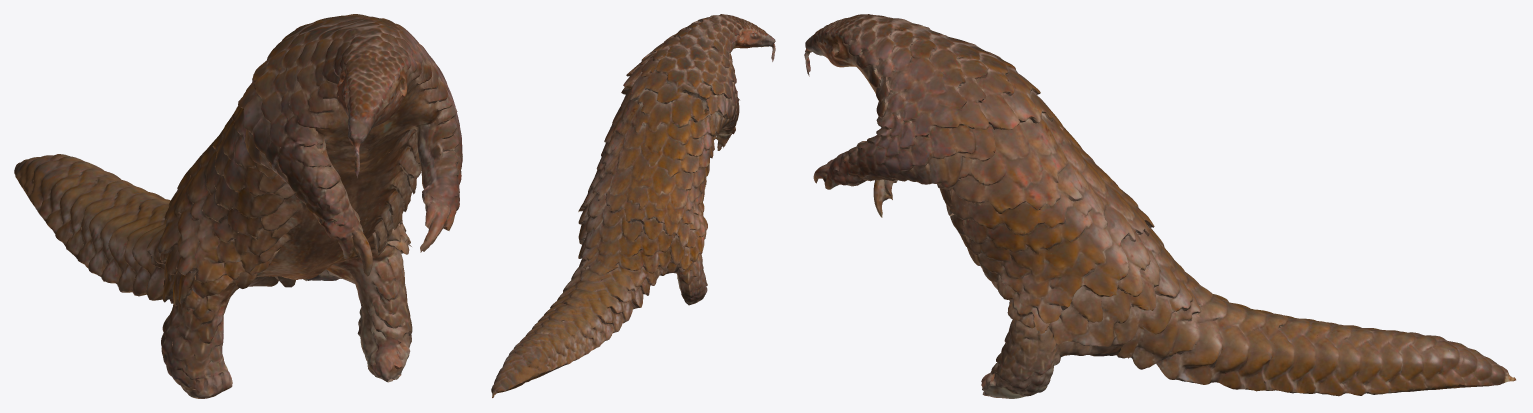
Rendered from Giant pangolin - the scaled mammal that rolls up into a ball.glb.
3 renders of one model, left to right at view 1: azimuth 30°, elevation 25°; view 2: azimuth 150°, elevation 25°; view 3: azimuth 270°, elevation 25°, orthographic. The views are drawn at different scales.
Parts seen in each view (by area): view 1: model; view 2: model; view 3: model.
Part boxes in pixels (x1,y1,x2,y2): model: [14, 14, 462, 398]; model: [491, 14, 775, 397]; model: [804, 14, 1515, 398].
Size of the model in its own units: 0.3377 by 0.6125 by 1.12.
Materials: 1 (1 with a texture image).
